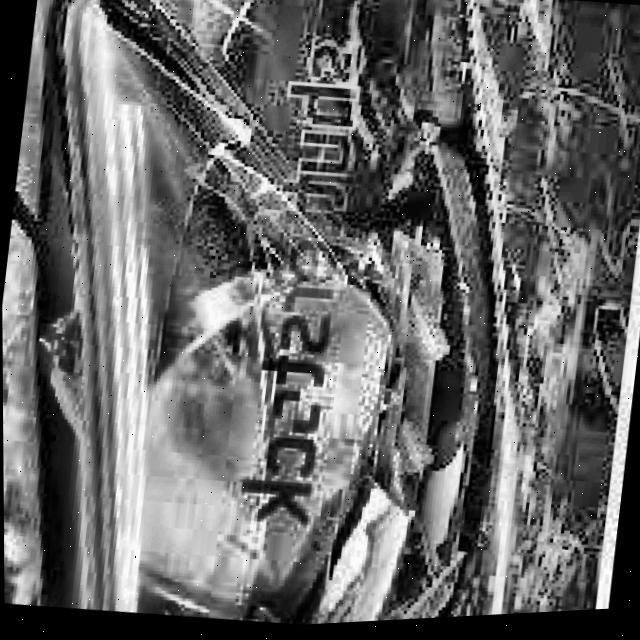head_lamp: (0, 0, 558, 640)
